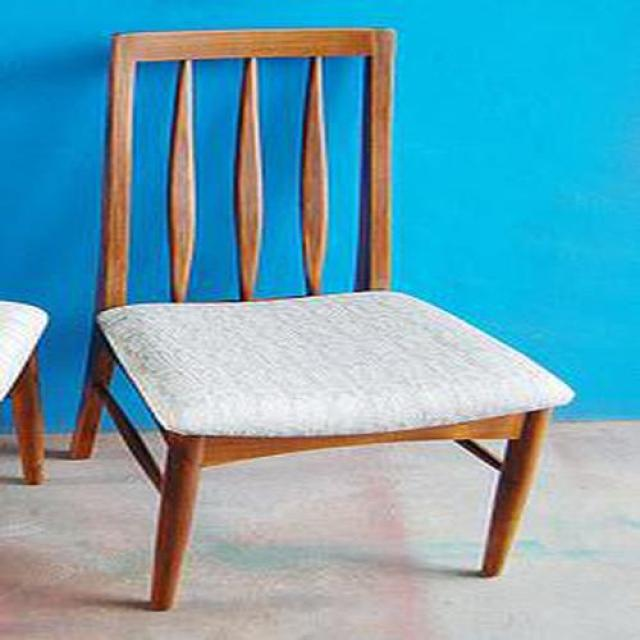chair: (68, 28, 573, 613)
